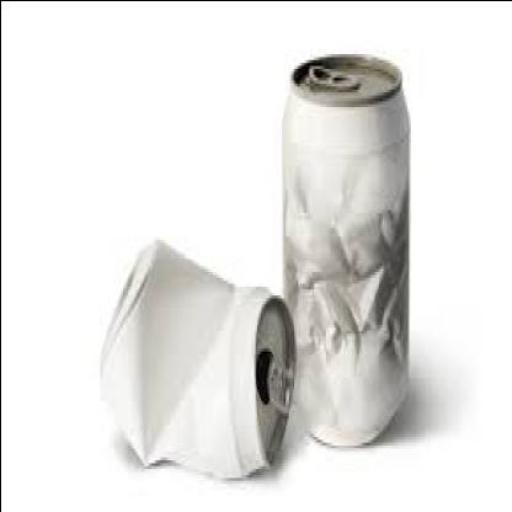metal: (279, 53, 408, 447), (93, 233, 293, 476)
